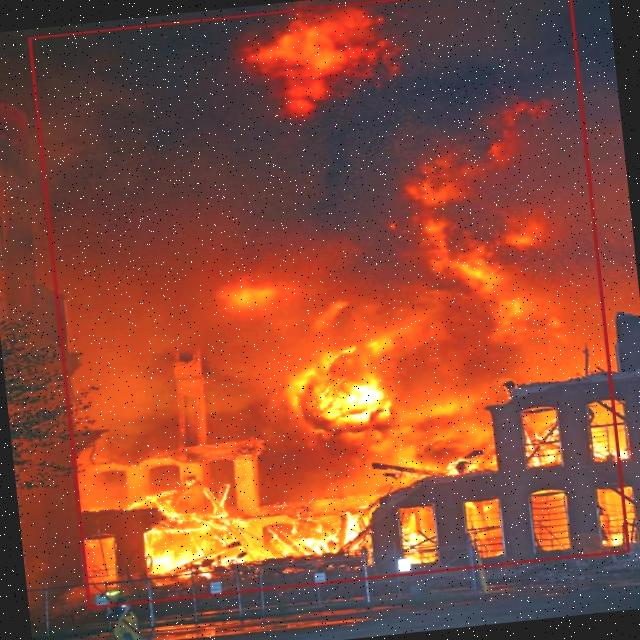fire: (28, 0, 630, 608)
